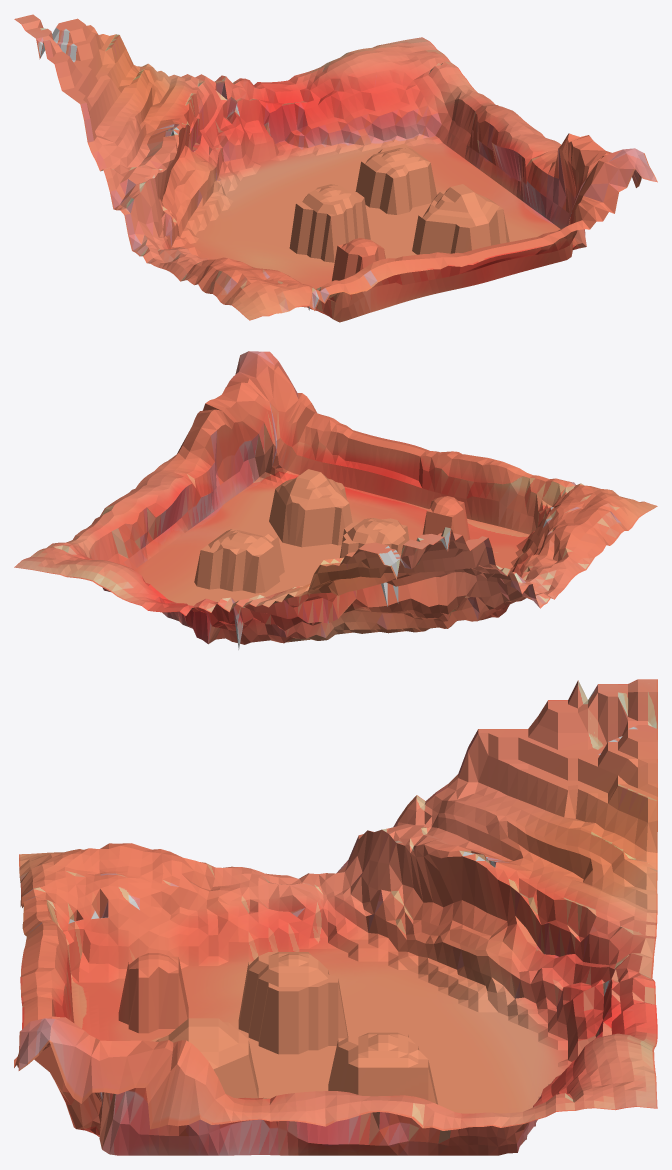
Rendered from map2.dae.
3 views of the same model, one above another, from view 1: azimuth 30°, elevation 25°; view 2: azimuth 150°, elevation 25°; view 3: azimuth 270°, elevation 25° (orthographic). The views are drawn at different scales.
Visible parts, largest first — view 1: 평면; view 2: 평면; view 3: 평면.
Boxes of the visible parts, box(x1,y1,x2,y2) form: 평면: box(14, 14, 657, 322); 평면: box(14, 351, 657, 649); 평면: box(14, 679, 657, 1155).
Bounding box in the file's own units: 20.29 × 20.24 × 8.04.
1 material, 1 textured.
